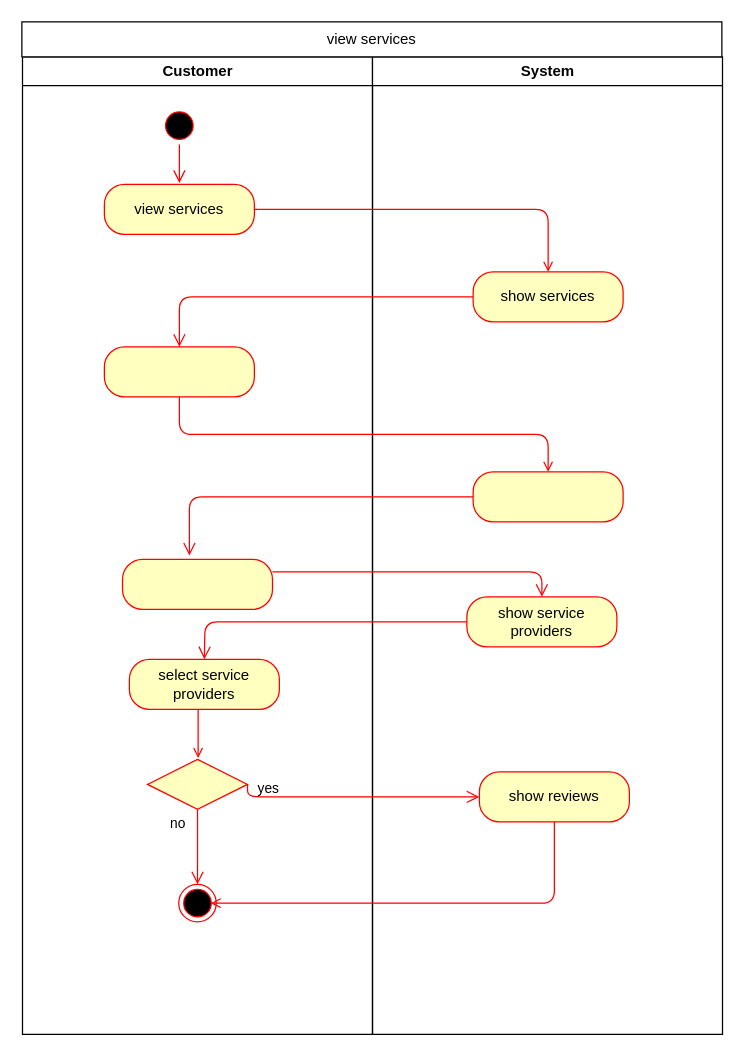
Image size: 745x1056. Some labels were removed from this diagram. Here are the shapes that lost their labels. From the top down, the centre of each, then its label:
At pixel 178 371: "select service".
At pixel 547 496: "show categories".
At pixel 196 583: "select category".
At pixel 197 783: "view review?".
